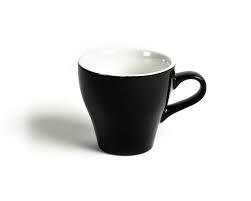cup: (74, 44, 208, 160)
